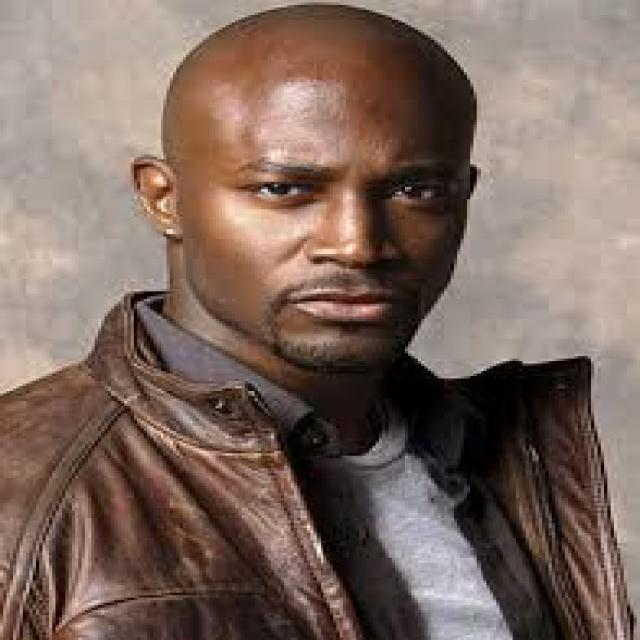bald: (122, 3, 492, 206)
